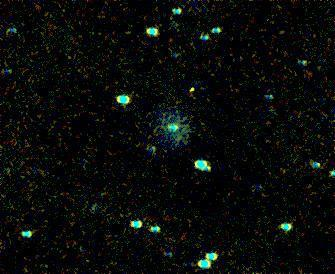star: (178, 74, 208, 104)
